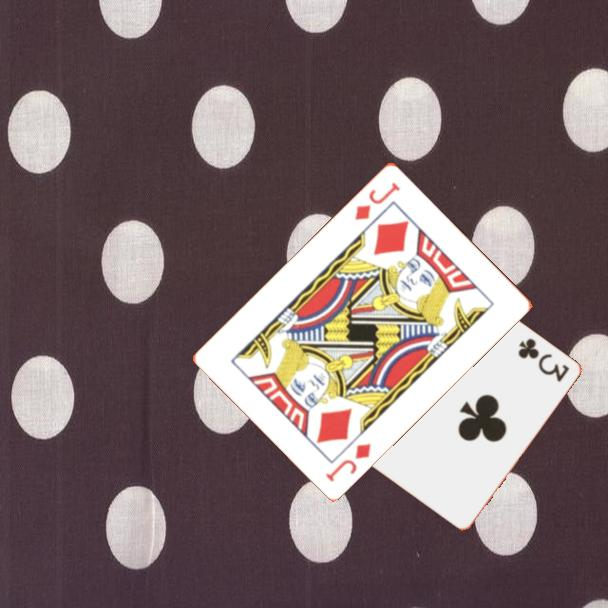c03: (514, 334, 572, 385)
d11: (351, 178, 403, 223), (322, 439, 374, 484)
